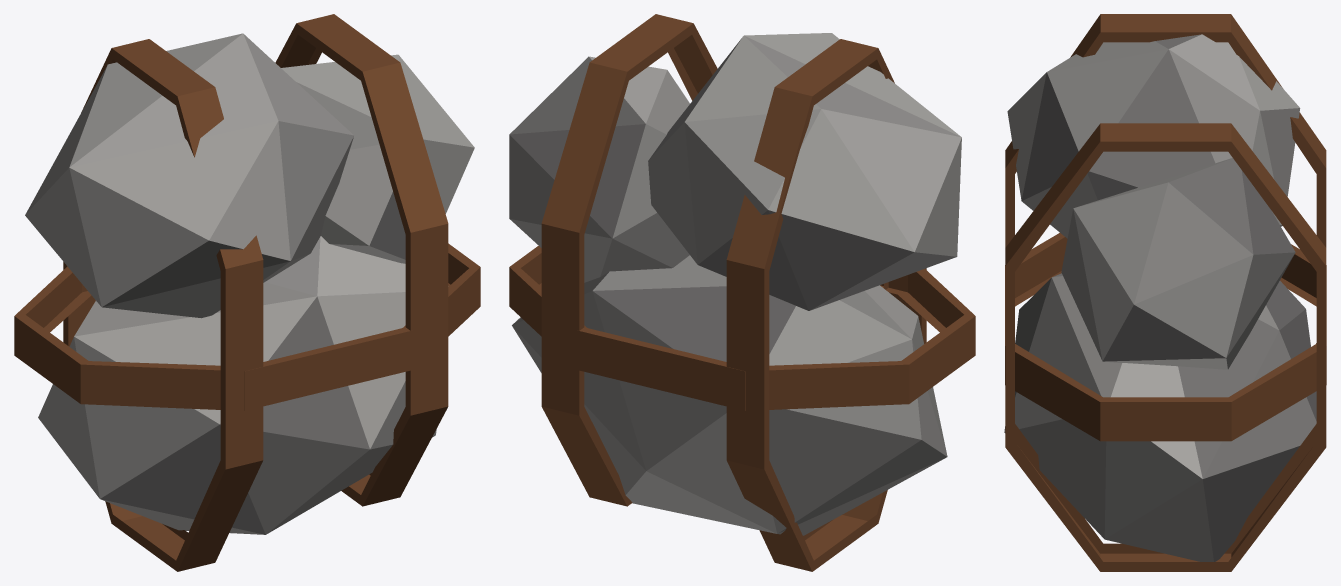
Rendered from stone_back.glb.
3 renders of one model, left to right at view 1: azimuth 30°, elevation 25°; view 2: azimuth 150°, elevation 25°; view 3: azimuth 270°, elevation 25°, orthographic.
Visible parts, largest first — view 1: stone_back; view 2: stone_back; view 3: stone_back.
Boxes of the visible parts, x1,y1,x2,y2 form: stone_back: (14,14,480,571); stone_back: (509,14,975,571); stone_back: (1004,14,1326,571).
Size of the model in its own units: 0.4902 by 0.5558 by 0.3355.
